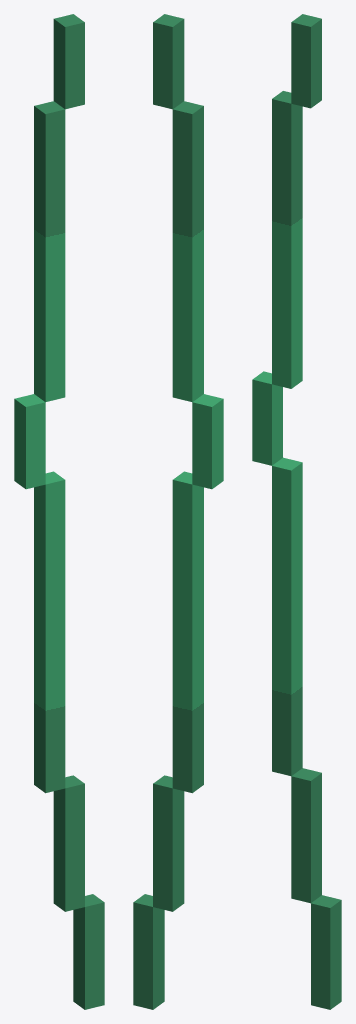
Rendered from vine5.fbx.
3 renders of one model, left to right at view 1: azimuth 30°, elevation 25°; view 2: azimuth 150°, elevation 25°; view 3: azimuth 330°, elevation 25°, orthographic.
Parts seen in each view (by area): view 1: vine5; view 2: vine5; view 3: vine5.
Boxes of the visible parts, left/top/right/bottom form: vine5: left=14, top=14, right=104, bottom=1009; vine5: left=133, top=14, right=223, bottom=1009; vine5: left=252, top=14, right=341, bottom=1009.
Bounding box in the file's own units: 4 × 48 × 1.
1 material, 1 textured.
